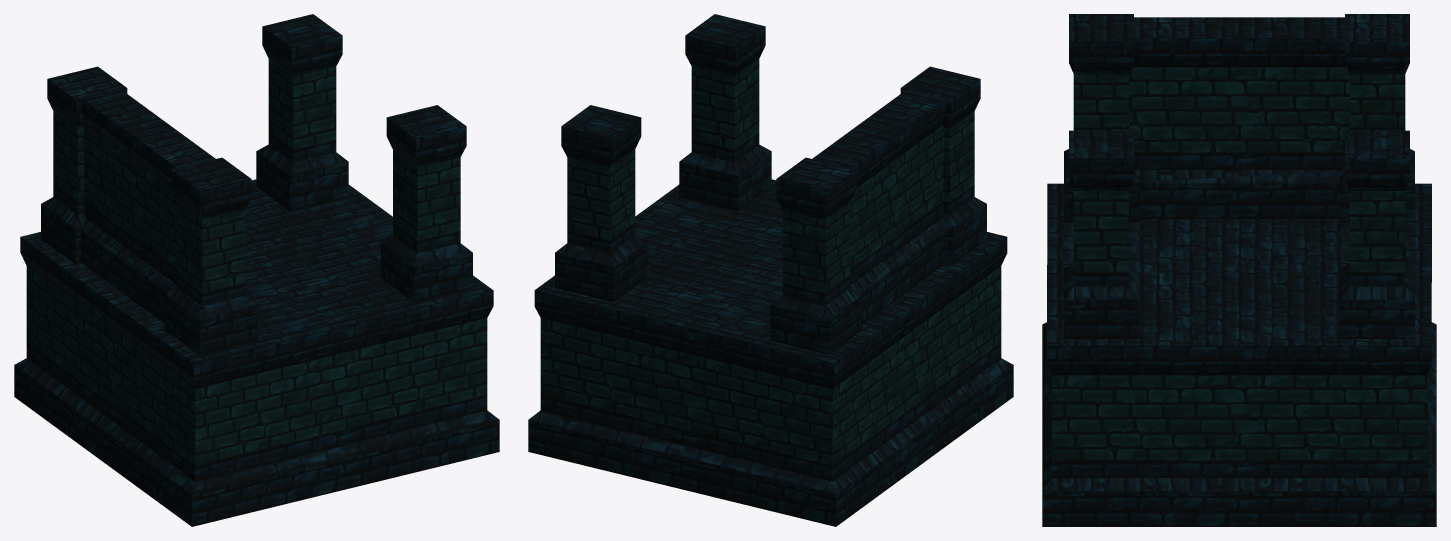
File: tile-wall-right.glb
3 views of the same model, side by side, from view 1: azimuth 30°, elevation 25°; view 2: azimuth 150°, elevation 25°; view 3: azimuth 270°, elevation 25° (orthographic). The views are drawn at different scales.
Visible parts, largest first — view 1: mergedBlocks(Clone); view 2: mergedBlocks(Clone); view 3: mergedBlocks(Clone).
Part boxes in pixels (box(x1,y1,x2,y2)): mergedBlocks(Clone): box(14, 14, 499, 526); mergedBlocks(Clone): box(528, 14, 1013, 526); mergedBlocks(Clone): box(1042, 14, 1436, 526).
Size of the model in its own units: 2 by 2 by 2.
2 materials, 2 textured.
